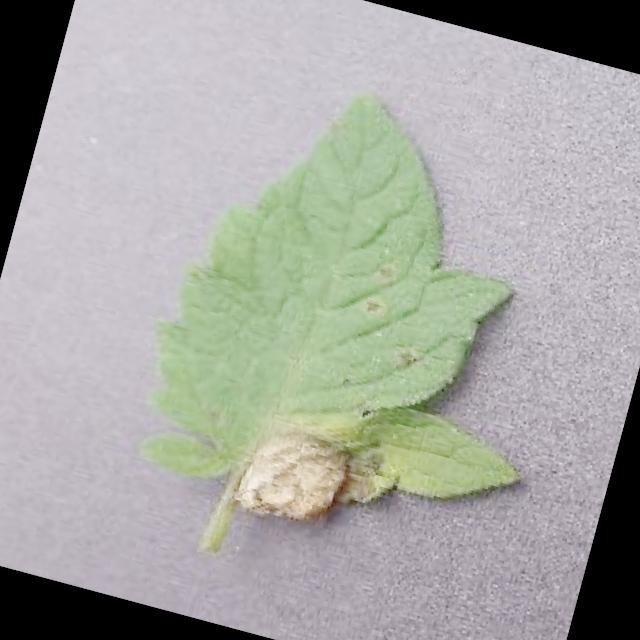Tomato Septoria spot leaf: (116, 52, 618, 582)
